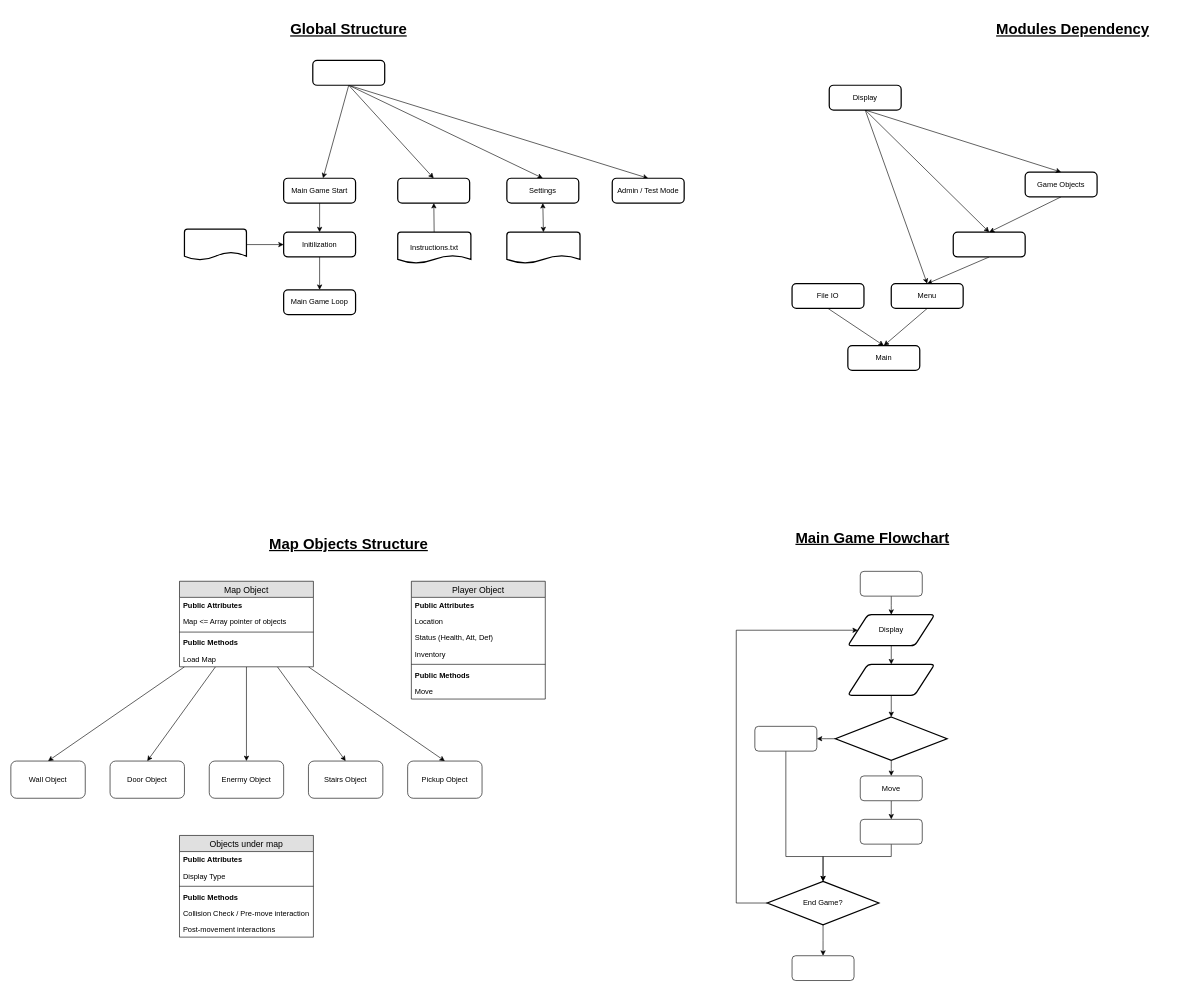
This 1186x991 diagram has some shape labels left out. Each missing label, with the centre of its shape:
Colision Check: point 891,738
config.cfg: point 543,247
Control Input: point 891,679
End: point 822,968
Instructions: point 433,190
Main Game: point 988,244
Main Menu: point 348,73
map file: point 215,244
Post-movement Interaction: point 891,831
Pre-movement Interaction: point 785,738
Start: point 891,583
